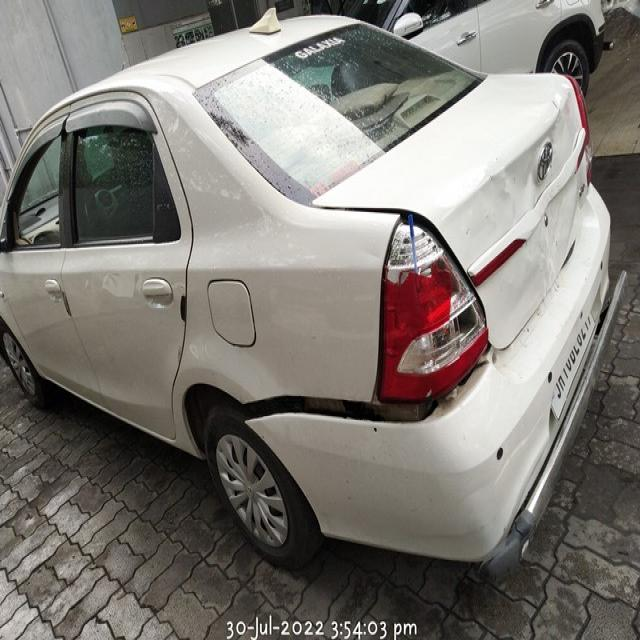damage: (388, 214, 477, 396), (246, 383, 438, 456), (491, 108, 571, 283)
